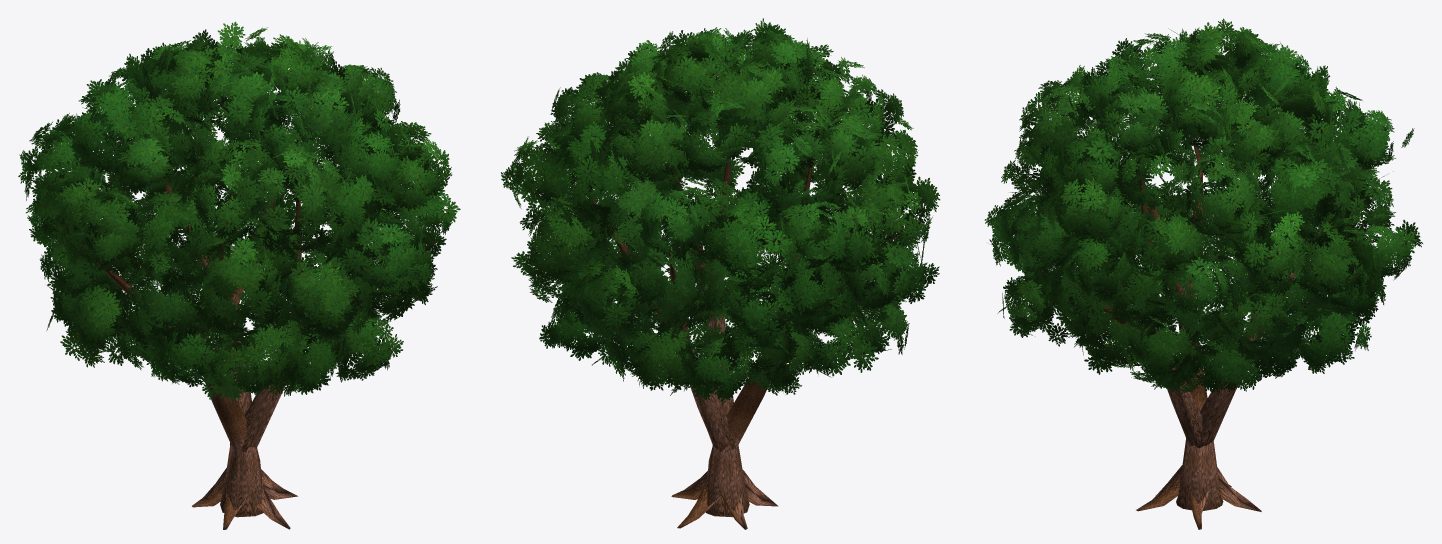
The model's file is mm6_deco_tree01.glb.
3 renders of one model, left to right at view 1: azimuth 30°, elevation 25°; view 2: azimuth 150°, elevation 25°; view 3: azimuth 270°, elevation 25°, orthographic.
Visible parts, largest first — view 1: Tree; view 2: Tree; view 3: Tree.
Boxes of the visible parts, x1,y1,x2,y2 form: Tree: [18, 21, 460, 529]; Tree: [501, 18, 940, 529]; Tree: [984, 18, 1422, 529].
Bounding box in the file's own units: 5.77 × 6.72 × 5.87.
2 materials, 2 textured.
